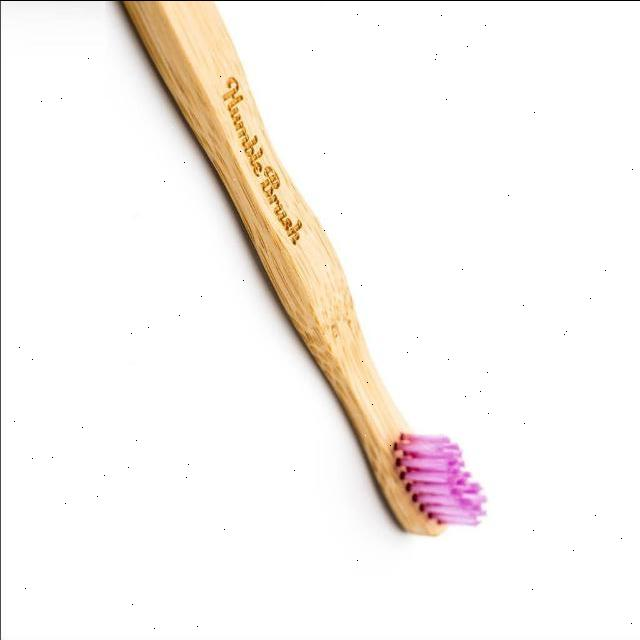toothbrush: (44, 0, 596, 602)
